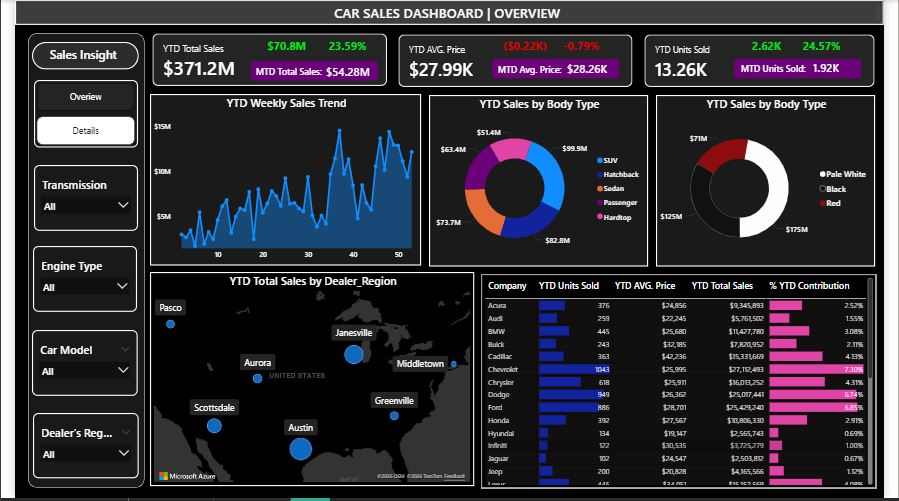

The dashboard page shown, as its layout file describes it:
{"tool":"powerbi","page":{"name":"Overiew","canvas":[1570,900],"ordinal":0},"visuals":[{"type":"cardVisual","fields":{"Data":["_Measure.Total Sales(YTD)"]},"box":[232.1,42.5,458.9,129.3],"z":0},{"type":"cardVisual","fields":{"Data":["_Measure.YOY Sales Difference"]},"box":[427,51.4,129.3,60.2],"z":1000},{"type":"textbox","box":[0,0,1570,45],"z":2000},{"type":"shape","box":[427,109.8,230.3,35.4],"z":3000},{"type":"textbox","box":[430.5,113.4,232.1,31.9],"z":4000},{"type":"cardVisual","fields":{"Data":["_Measure.MTD Total Sales"]},"box":[533.6,99.1,139.1,57.3],"z":5000},{"type":"cardVisual","fields":{"Data":["_Measure.YOY % Growth"]},"box":[536.8,51.4,129.3,60.2],"z":6000},{"type":"shape","box":[23,60.2,210.8,822],"z":7000},{"type":"cardVisual","fields":{"Data":["_Measure.YTD AVG. Price"]},"box":[675,44.3,457.1,129.3],"z":8000},{"type":"cardVisual","fields":{"Data":["_Measure.YTD Unit Sold"]},"box":[1120,44.3,450,129.3],"z":9000},{"type":"shape","box":[862.8,106.3,230.3,35.4],"z":10000},{"type":"textbox","box":[868.1,109.8,232.1,31.9],"z":11000},{"type":"cardVisual","fields":{"Data":["_Measure.MTD Avg. Price"]},"box":[969.1,93.6,145.5,57.3],"z":12000},{"type":"cardVisual","fields":{"Data":["_Measure.YOY Avg. Price Diff"]},"box":[852.2,51.4,140,60.2],"z":13000},{"type":"cardVisual","fields":{"Data":["_Measure.YOY Avg. % Growth"]},"box":[960.2,51.4,129.3,60.2],"z":14000},{"type":"shape","box":[1298.6,106.3,230.3,35.4],"z":15000},{"type":"textbox","box":[1307.3,109.1,232.7,31.8],"z":16000},{"type":"cardVisual","fields":{"Data":["_Measure.MTD Unit Sold"]},"box":[1413.6,93.6,144.5,55.5],"z":17000},{"type":"cardVisual","fields":{"Data":["_Measure.YOY Unit Sold Diff"]},"box":[1288,51.4,140,60.2],"z":18000},{"type":"cardVisual","fields":{"Data":["_Measure.% YOY Units Sold"]},"box":[1392.5,51.4,129.3,60.2],"z":19000},{"type":"lineChart","title":"YTD Weekly Sales Trend","fields":{"Y":["_Measure.Total Sales"],"Category":["Date_Table.WeekNo."]},"box":[244.1,169.3,490.1,310.1],"z":20000},{"type":"donutChart","title":"YTD Sales by Body Type","fields":{"Category":["car_data.Body Style"],"Y":["_Measure.YTD Total Sales"]},"box":[748.5,171.1,395.6,310],"z":21000},{"type":"donutChart","title":"YTD Sales by Body Type","fields":{"Y":["_Measure.Total Sales"],"Category":["car_data.Color"]},"box":[1158.3,171.1,395.6,310],"z":22000},{"type":"azureMap","title":"YTD Total Sales by Dealer_Region","fields":{"Category":["car_data.Dealer_Region"],"Size":["_Measure.Total Sales"]},"box":[244.1,491.9,586.3,386.7],"z":23000},{"type":"tableEx","fields":{"Values":["car_data.Company","_Measure.YTD Units Sold","_Measure.YTD AVG. Price","_Measure.YTD Total Sales","_Measure.% YTD Contribution"]},"box":[841.8,494.3,715,388],"z":24000},{"type":"slicer","fields":{"Values":["car_data.Engine"]},"box":[31.9,444.7,187.8,118.7],"z":25000},{"type":"slicer","fields":{"Values":["car_data.Transmission"]},"box":[33.7,297.6,187.8,118.7],"z":26000},{"type":"slicer","fields":{"Values":["car_data.Model"]},"box":[30.1,597,191.3,118.7],"z":27000},{"type":"slicer","fields":{"Values":["car_data.Dealer_Region"]},"box":[32.9,745.5,190.8,118.4],"z":28000},{"type":"pageNavigator","box":[33.7,145.3,187.8,122.2],"z":29000},{"type":"shape","box":[30.1,76.2,193.1,49.6],"z":30000},{"type":"textbox","box":[58.5,79.7,143.5,40.7],"z":31000}]}

Visuals, with their boxes in screenshot pixels (x1, y1, x2, y2), scaled from the page's 1570x900 canvas onto the 899x501 screenshot:
cardVisual - _Measure.Total Sales(YTD): (133,24,396,96)
cardVisual - _Measure.YOY Sales Difference: (245,29,319,62)
textbox: (0,0,898,25)
shape: (245,61,376,81)
textbox: (247,63,379,81)
cardVisual - _Measure.MTD Total Sales: (306,55,385,87)
cardVisual - _Measure.YOY % Growth: (307,29,381,62)
shape: (13,34,134,491)
cardVisual - _Measure.YTD AVG. Price: (387,25,648,97)
cardVisual - _Measure.YTD Unit Sold: (641,25,898,97)
shape: (494,59,626,79)
textbox: (497,61,630,79)
cardVisual - _Measure.MTD Avg. Price: (555,52,638,84)
cardVisual - _Measure.YOY Avg. Price Diff: (488,29,568,62)
cardVisual - _Measure.YOY Avg. % Growth: (550,29,624,62)
shape: (744,59,875,79)
textbox: (749,61,882,78)
cardVisual - _Measure.MTD Unit Sold: (809,52,892,83)
cardVisual - _Measure.YOY Unit Sold Diff: (738,29,818,62)
cardVisual - _Measure.% YOY Units Sold: (797,29,871,62)
"YTD Weekly Sales Trend" lineChart: (140,94,420,267)
"YTD Sales by Body Type" donutChart: (429,95,655,268)
"YTD Sales by Body Type" donutChart: (663,95,890,268)
"YTD Total Sales by Dealer_Region" azureMap: (140,274,475,489)
tableEx - car_data.Company x _Measure.YTD Units Sold: (482,275,891,491)
slicer - car_data.Engine: (18,248,126,314)
slicer - car_data.Transmission: (19,166,127,232)
slicer - car_data.Model: (17,332,127,398)
slicer - car_data.Dealer_Region: (19,415,128,481)
pageNavigator: (19,81,127,149)
shape: (17,42,128,70)
textbox: (33,44,116,67)
